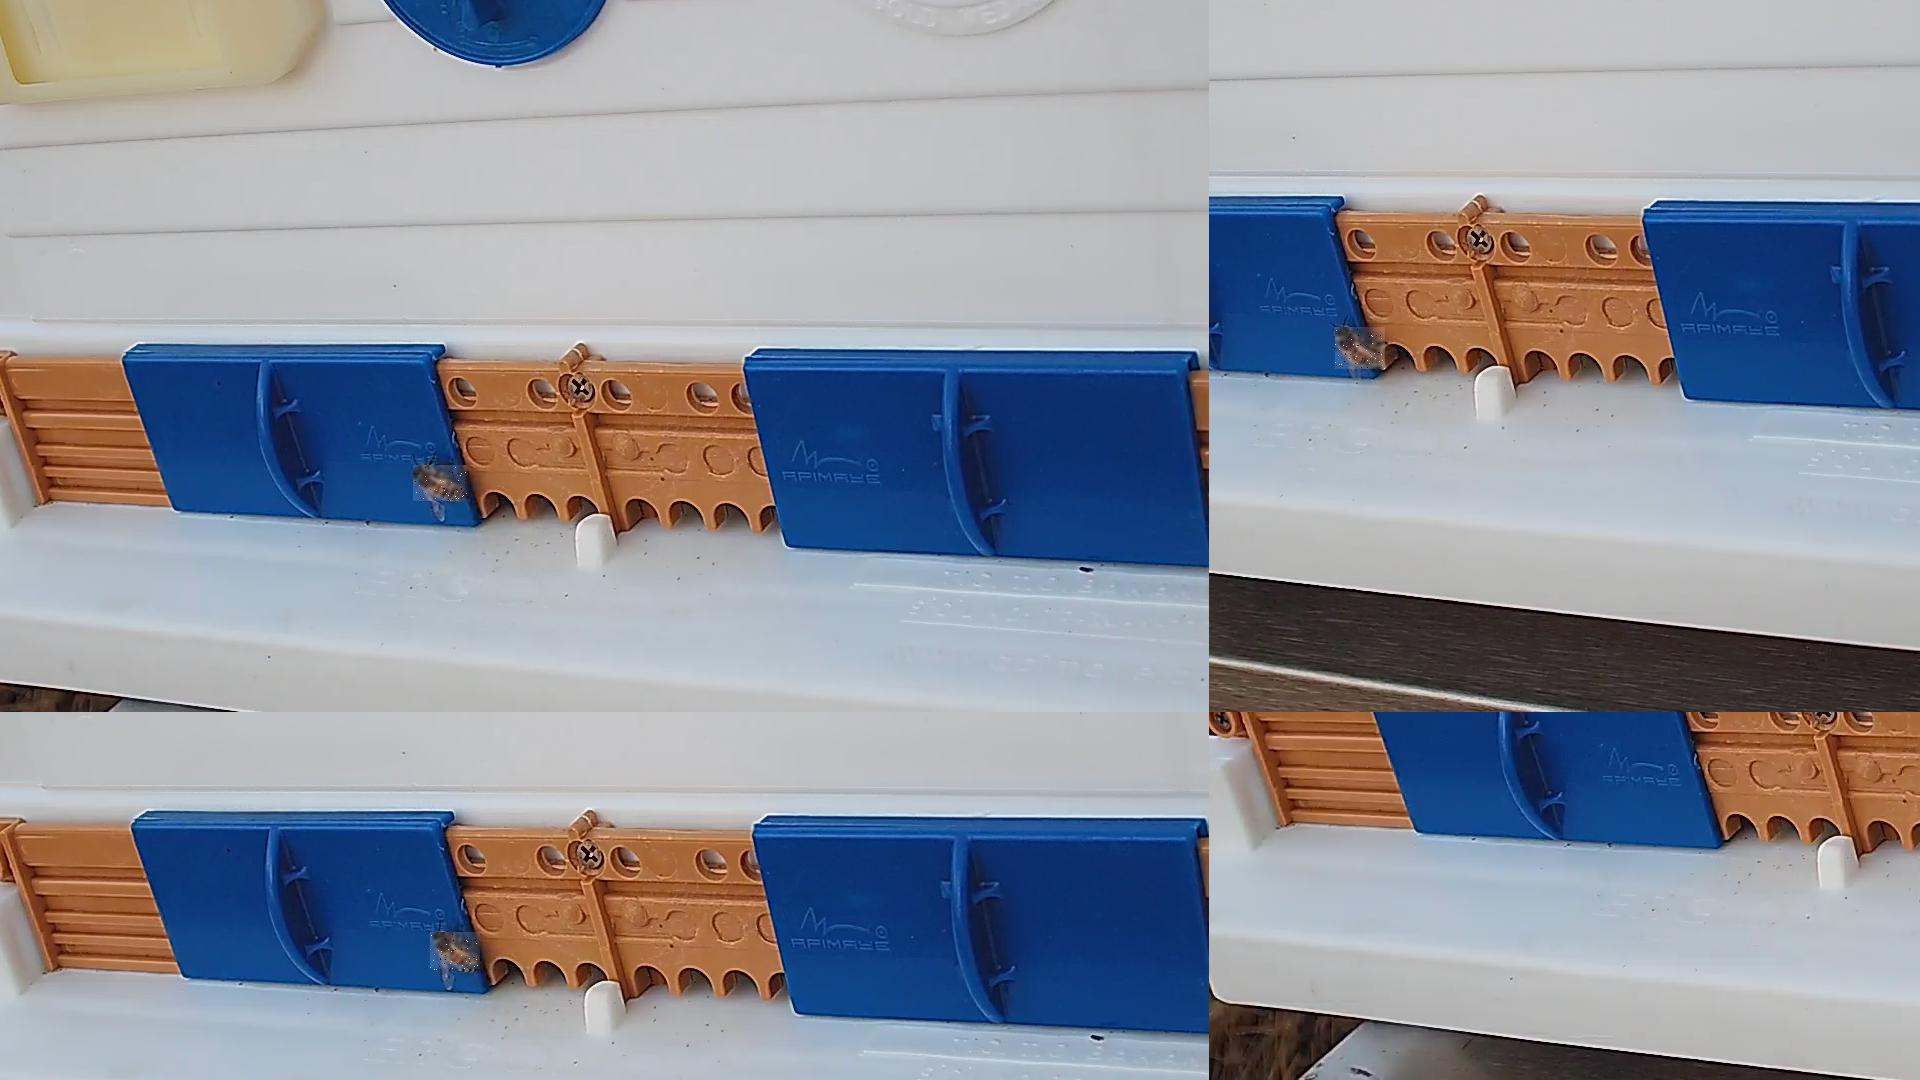bee: (1336, 327, 1386, 371), (414, 465, 469, 502), (430, 932, 481, 972)
